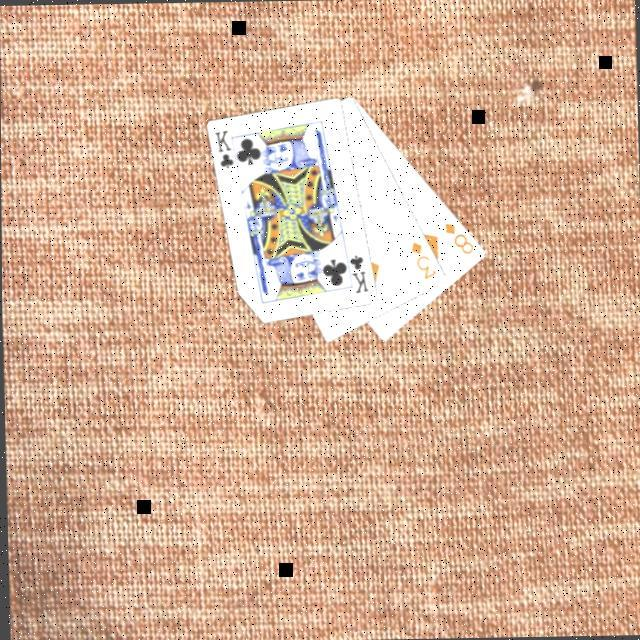3D: (406, 236, 438, 282)
8D: (440, 218, 476, 256)
KC: (339, 248, 370, 295), (211, 126, 240, 173)
